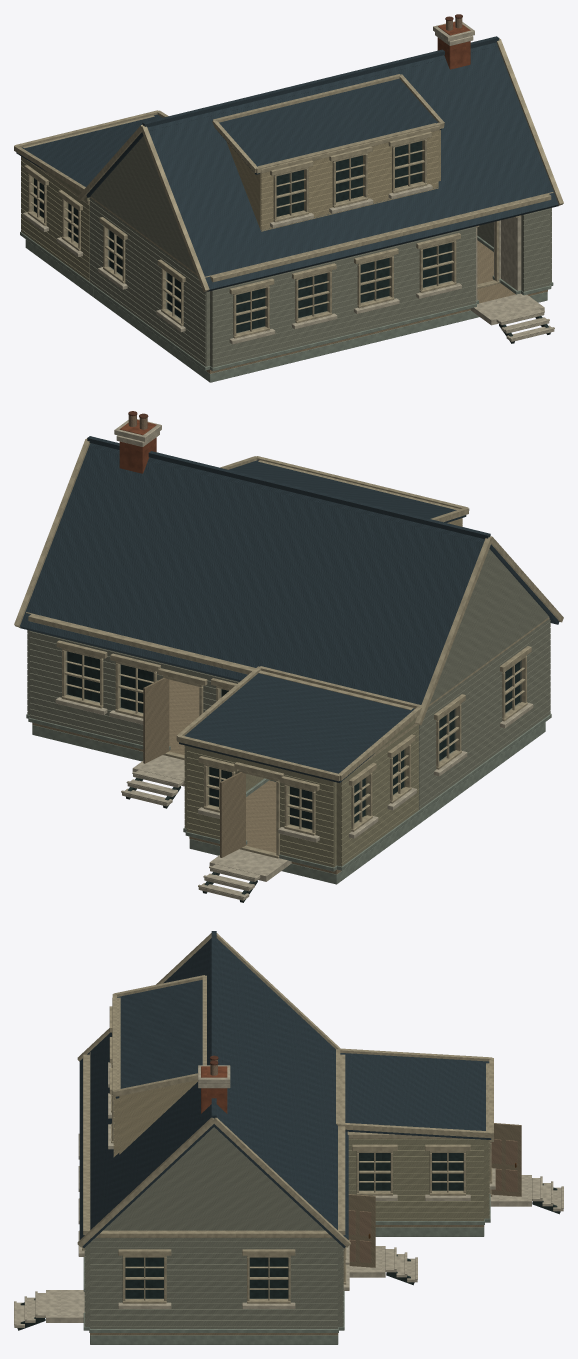
3 views of the same model, one above another, from view 1: azimuth 30°, elevation 25°; view 2: azimuth 150°, elevation 25°; view 3: azimuth 270°, elevation 25° (orthographic). The views are drawn at different scales.
Parts seen in each view (by area): view 1: A009-12_11_Roof_Cape, A009-12_02_Clapboard, A009-12_04_Architectural_Trim, A009-12_11_Roof_Broad_Dormer, A009-12_01_Wall_Shell, A009-12_03_Window_Door_Frames, A009-12_06_Glazing, A009-12_12_Roof_Edges, A009-12_00_Foundation, A009-12_11_Roof_Kitchen, A009-12_07_Floors, A009-12_13_Chimneys (+2 smaller); view 2: A009-12_11_Roof_Cape, A009-12_02_Clapboard, A009-12_11_Roof_Kitchen, A009-12_04_Architectural_Trim, A009-12_01_Wall_Shell, A009-12_12_Roof_Edges, A009-12_03_Window_Door_Frames, A009-12_07_Floors, A009-12_06_Glazing, A009-12_00_Foundation, A009-12_11_Roof_Broad_Dormer, A009-12_08_Stairs (+3 smaller); view 3: A009-12_11_Roof_Cape, A009-12_02_Clapboard, A009-12_01_Wall_Shell, A009-12_04_Architectural_Trim, A009-12_11_Roof_Kitchen, A009-12_12_Roof_Edges, A009-12_11_Roof_Broad_Dormer, A009-12_06_Glazing, A009-12_03_Window_Door_Frames, A009-12_07_Floors, A009-12_00_Foundation, A009-12_14_Dormer_Cheeks (+4 smaller).
Part boxes in pixels (<box>): A009-12_11_Roof_Cape: <box>86,36,558,292</box>; A009-12_02_Clapboard: <box>21,130,551,367</box>; A009-12_04_Architectural_Trim: <box>20,115,553,371</box>; A009-12_11_Roof_Broad_Dormer: <box>218,78,441,174</box>; A009-12_01_Wall_Shell: <box>32,136,551,366</box>; A009-12_03_Window_Door_Frames: <box>27,138,499,338</box>; A009-12_06_Glazing: <box>34,141,451,332</box>; A009-12_12_Roof_Edges: <box>14,38,563,291</box>; A009-12_00_Foundation: <box>25,239,547,382</box>; A009-12_11_Roof_Kitchen: <box>16,114,162,186</box>; A009-12_07_Floors: <box>206,240,547,373</box>; A009-12_13_Chimneys: <box>433,14,474,69</box>; A009-12_11_Roof_Cape: <box>19,436,559,704</box>; A009-12_02_Clapboard: <box>27,518,550,867</box>; A009-12_11_Roof_Kitchen: <box>179,673,414,782</box>; A009-12_04_Architectural_Trim: <box>26,460,551,871</box>; A009-12_01_Wall_Shell: <box>28,518,549,866</box>; A009-12_12_Roof_Edges: <box>14,437,563,781</box>; A009-12_03_Window_Door_Frames: <box>61,648,527,858</box>; A009-12_07_Floors: <box>32,679,341,881</box>; A009-12_06_Glazing: <box>67,651,520,829</box>; A009-12_00_Foundation: <box>32,722,545,884</box>; A009-12_11_Roof_Broad_Dormer: <box>229,460,466,522</box>; A009-12_08_Stairs: <box>121,770,260,900</box>; A009-12_11_Roof_Cape: <box>79,931,348,1248</box>; A009-12_02_Clapboard: <box>84,1096,489,1328</box>; A009-12_01_Wall_Shell: <box>85,1096,488,1328</box>; A009-12_04_Architectural_Trim: <box>78,997,495,1332</box>; A009-12_11_Roof_Kitchen: <box>340,1053,491,1139</box>; A009-12_12_Roof_Edges: <box>77,933,493,1247</box>; A009-12_11_Roof_Broad_Dormer: <box>115,980,202,1098</box>; A009-12_06_Glazing: <box>125,1153,463,1298</box>; A009-12_03_Window_Door_Frames: <box>82,1033,492,1303</box>; A009-12_07_Floors: <box>46,1175,531,1335</box>; A009-12_00_Foundation: <box>90,1227,484,1344</box>; A009-12_14_Dormer_Cheeks: <box>119,1080,197,1154</box>.
Size of the model in its own units: 12.1 by 8.12 by 15.06.
14 materials, 14 textured.
